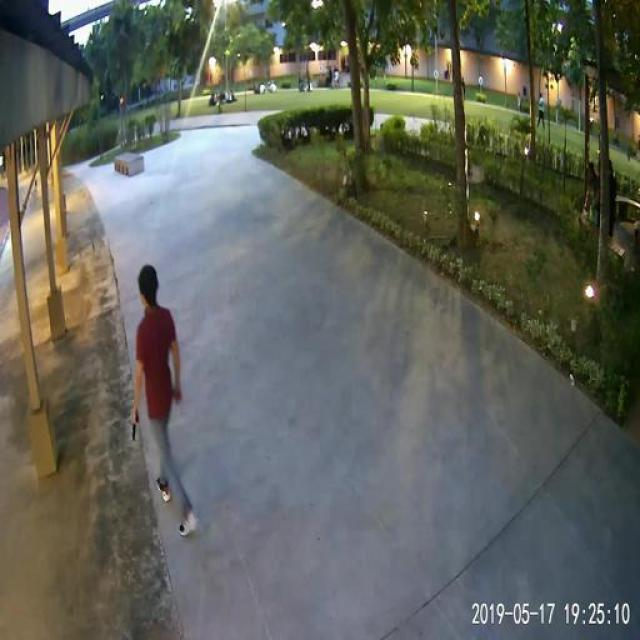Gun: (124, 402, 150, 450)
